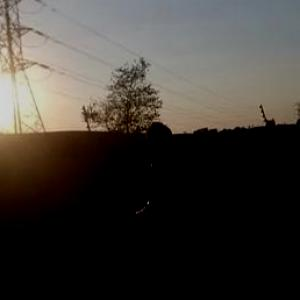follow: (123, 117, 206, 299)
